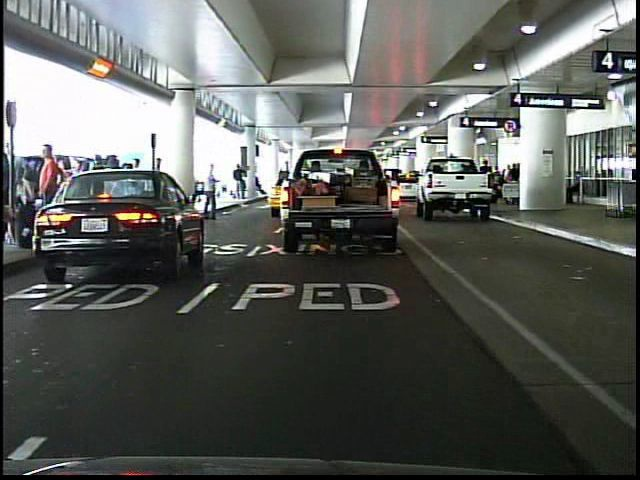person: (34, 140, 63, 252), (148, 153, 168, 217), (203, 160, 222, 221), (234, 162, 252, 199)
